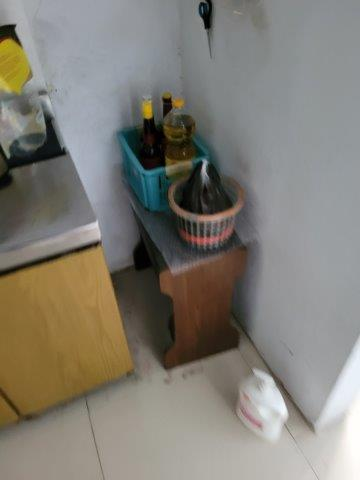plastik: (188, 165, 230, 216)
